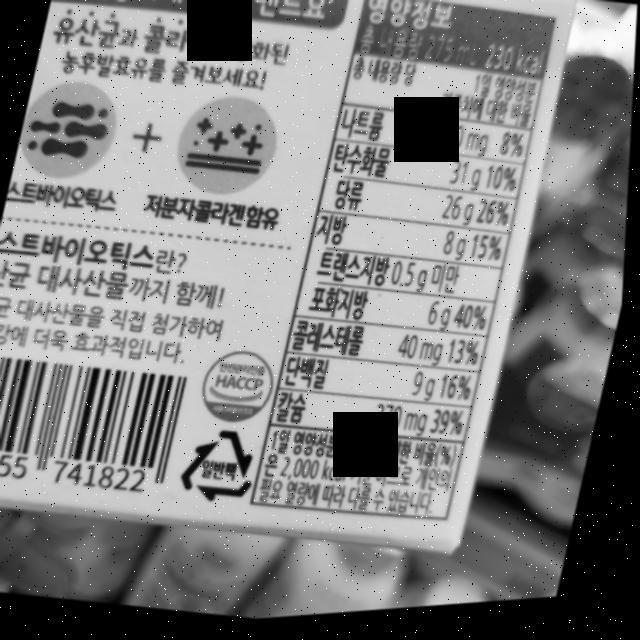NormalPack: (176, 419, 271, 517)
